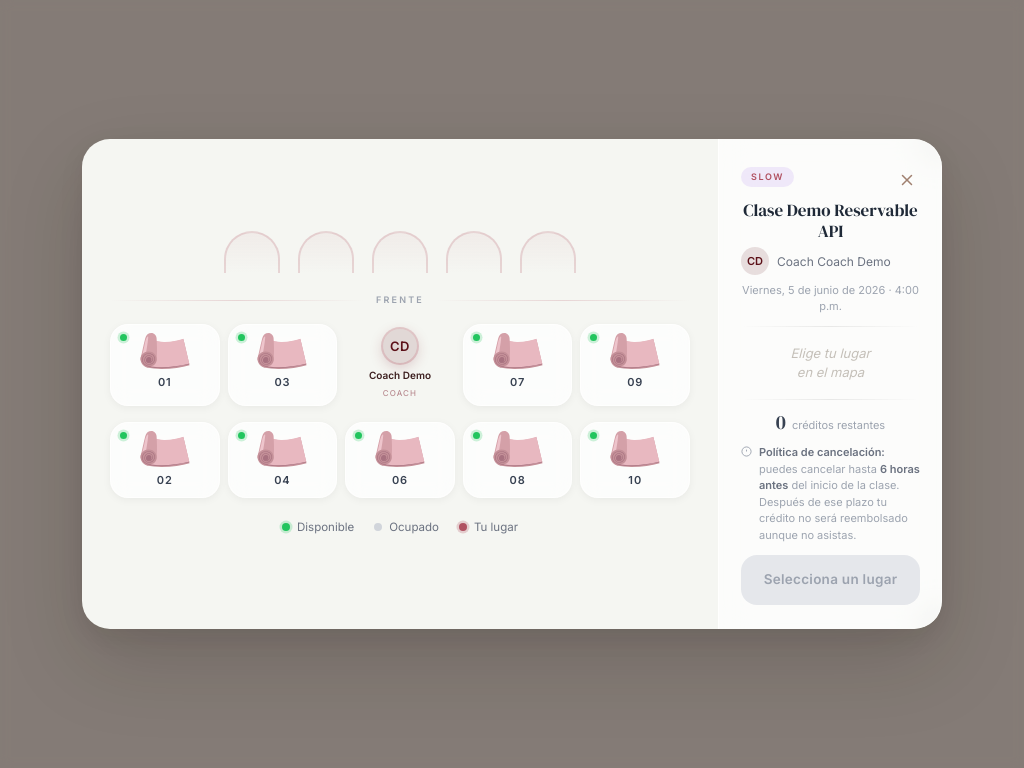
Scenario: EquipmentReservationPanel › si no tiene crÃƒÆ’Ã†â€™Ãƒâ€šÃ‚Â©ditos disponibles no deja seleccionar lugar
Click the button with test id "slow-spot-01".
click(165, 365)  # box [110, 324, 220, 406]
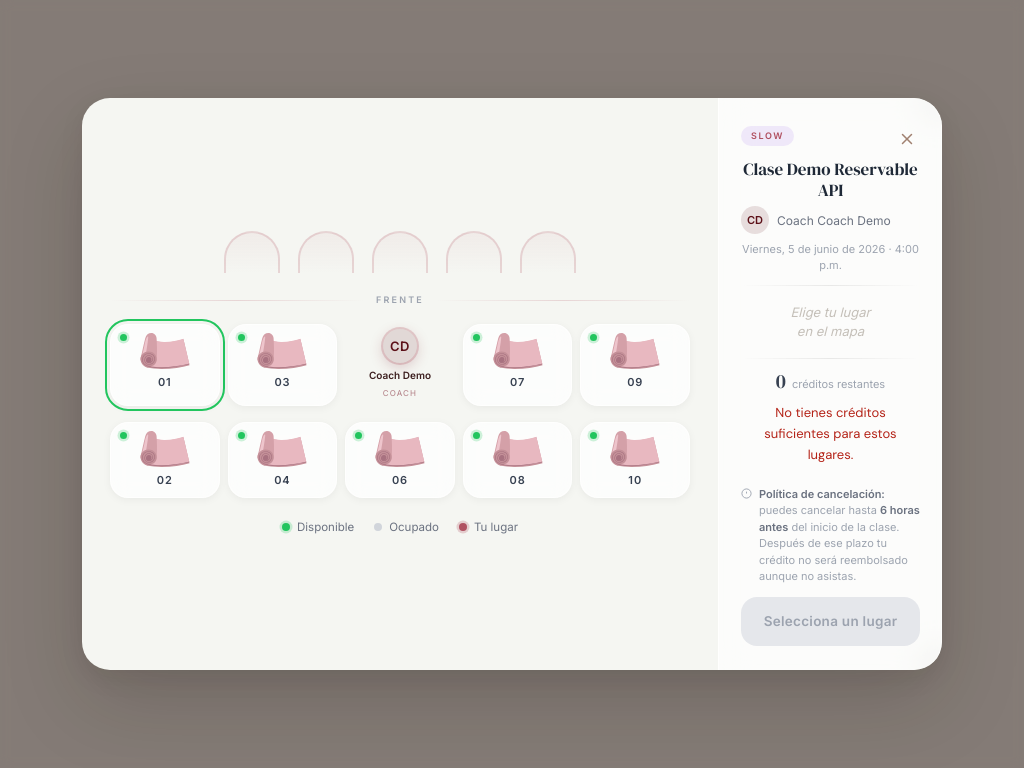
Expected: the dialog named "Seleccionar lugar" shows "cr.ditos suficientes para estos lugares", [764, 404, 897, 463]
